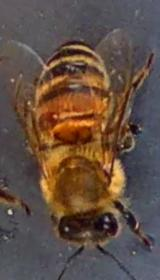varroa_mite: (27, 100, 72, 141)
